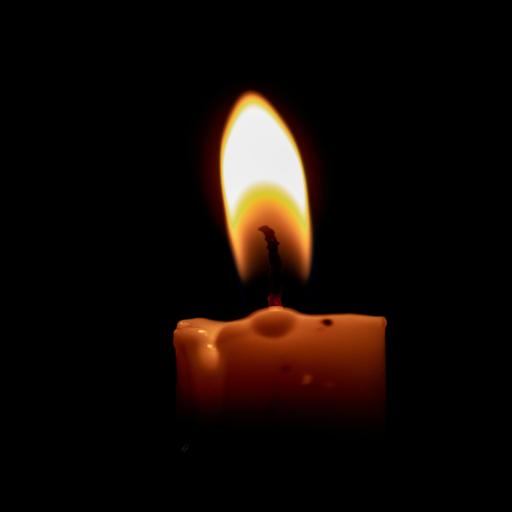candlelight: (164, 76, 422, 439)
fire: (210, 83, 335, 264)
